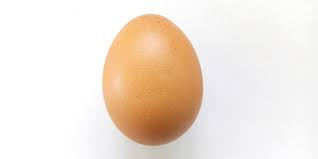egg: (103, 14, 203, 145)
